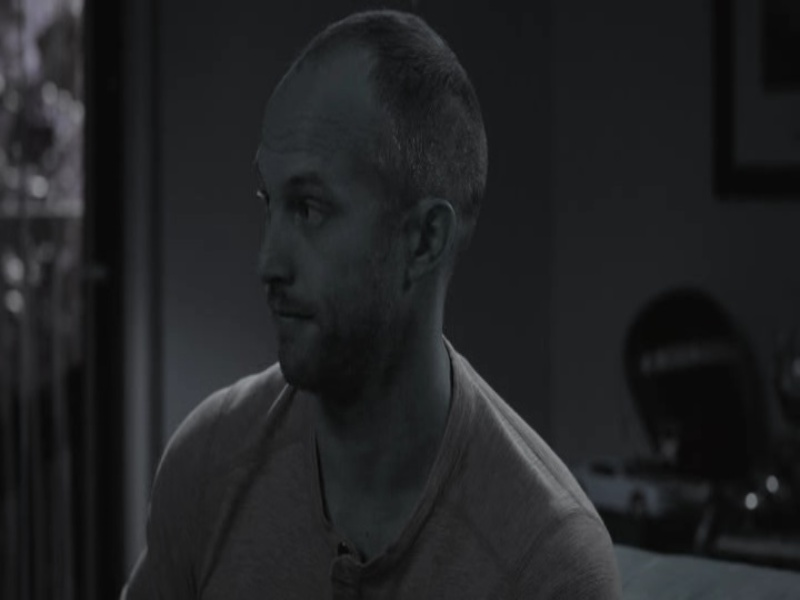TsisyArotava: (231, 46, 462, 408)
